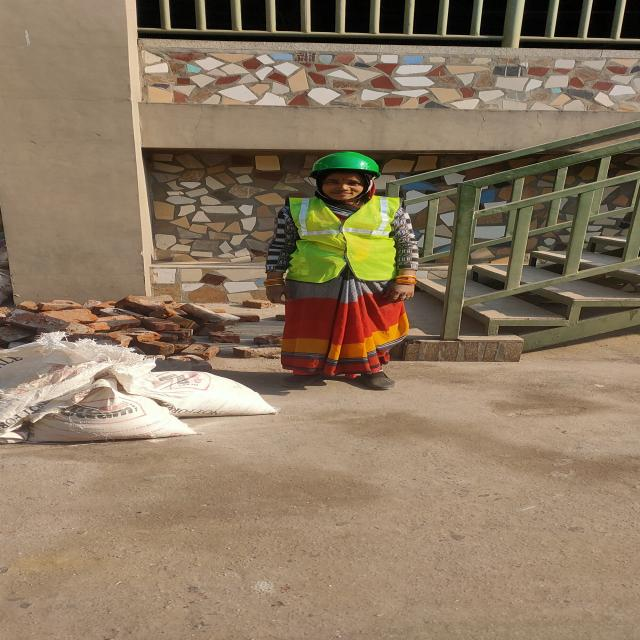safe: (262, 153, 420, 391)
